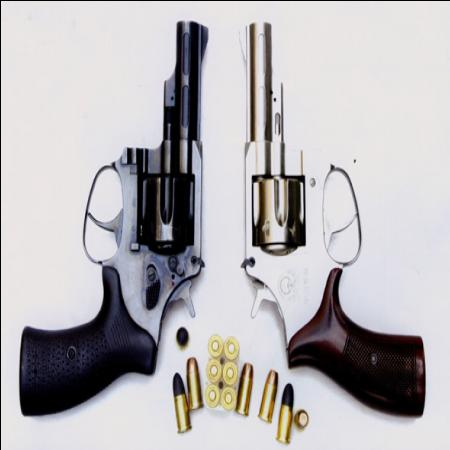Pistol: (15, 18, 209, 416), (235, 20, 425, 418)
